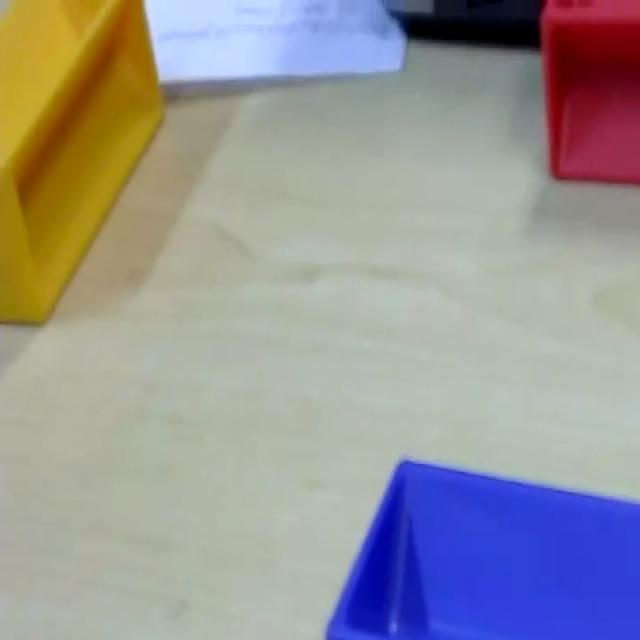blue_block: (324, 453, 638, 636)
red_block: (538, 0, 638, 185)
yellow_block: (0, 0, 164, 325)
